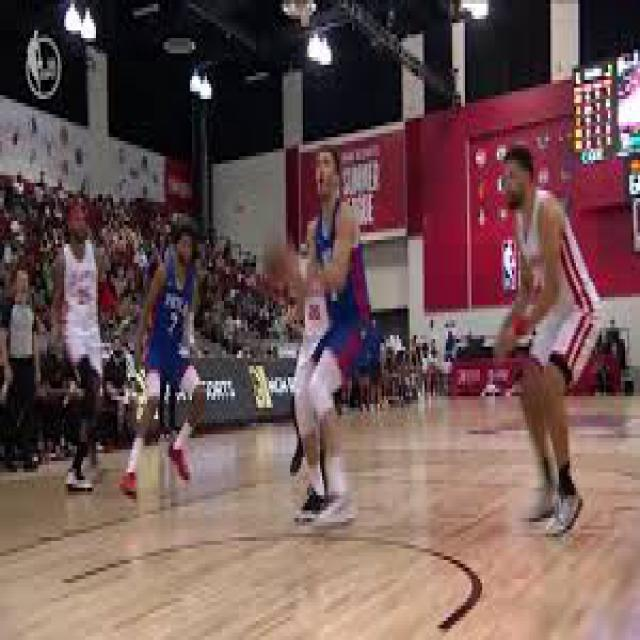basketball: (264, 236, 296, 294)
